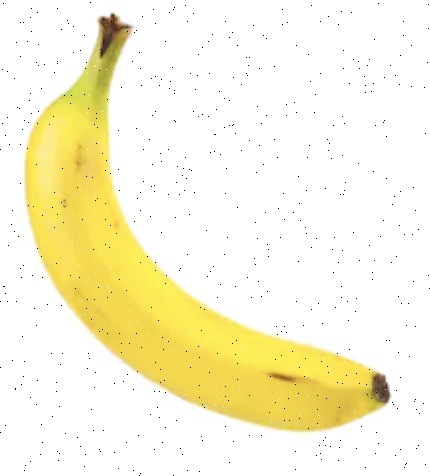fresh_banana: (24, 15, 391, 431)
